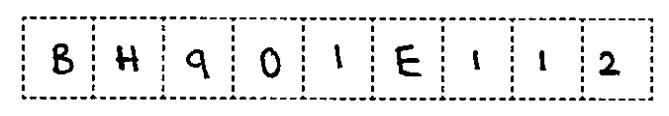0: (254, 42, 290, 82)
1: (323, 38, 354, 78), (529, 41, 558, 78), (465, 44, 490, 78)
2: (590, 47, 626, 80)
9: (178, 42, 218, 86)
B: (48, 39, 80, 82)
E: (386, 37, 431, 83)
H: (108, 40, 148, 80)
